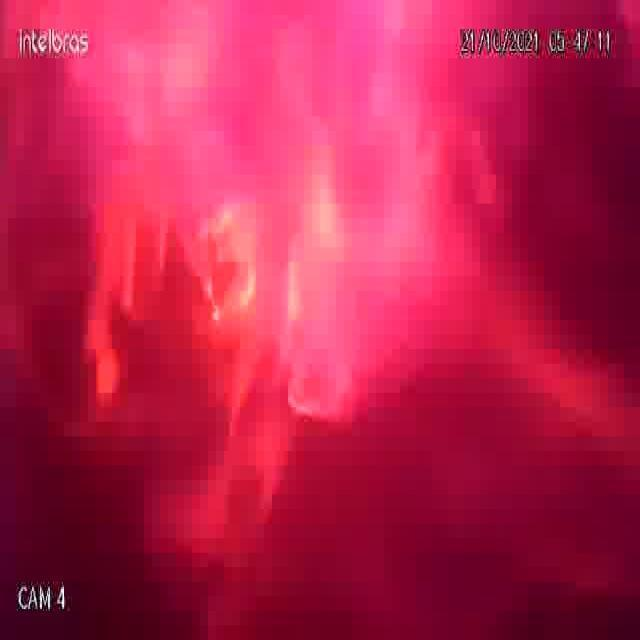Fire: (45, 67, 354, 483)
